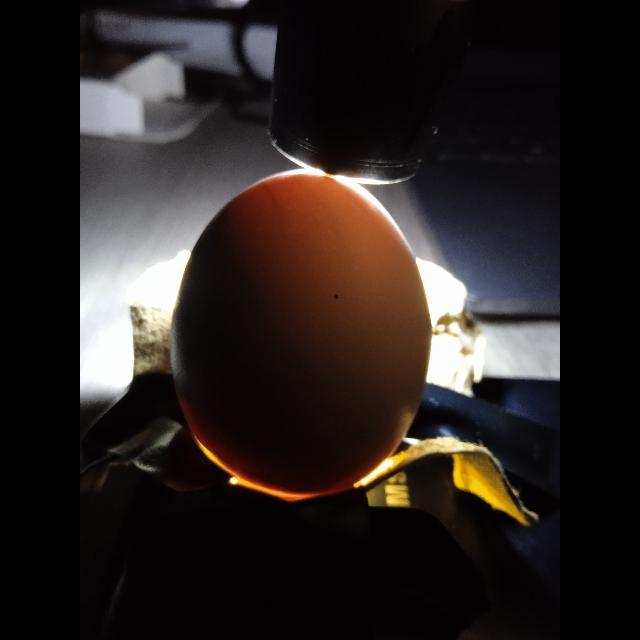Fertile: (169, 172, 437, 506)
